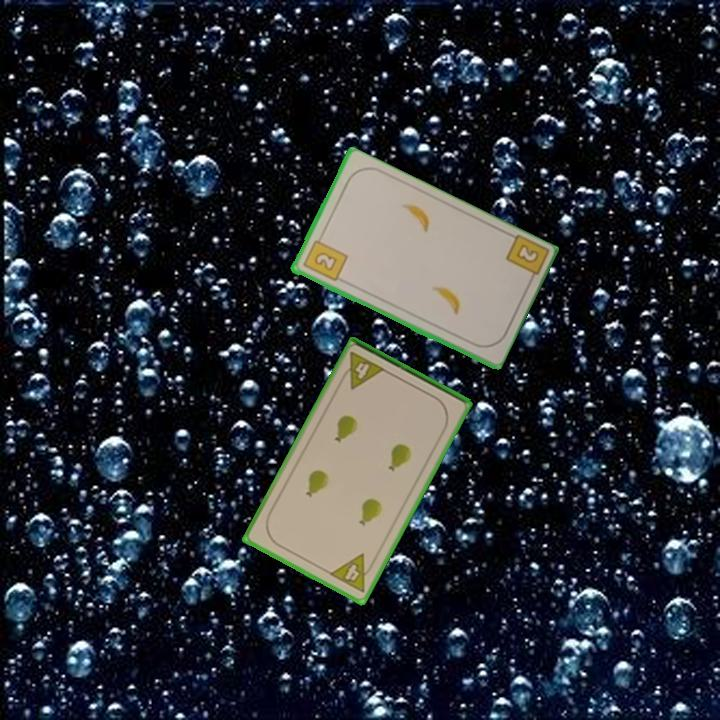2b: (299, 232, 350, 284), (502, 232, 549, 287)
4p: (326, 550, 379, 595), (336, 348, 388, 393)
